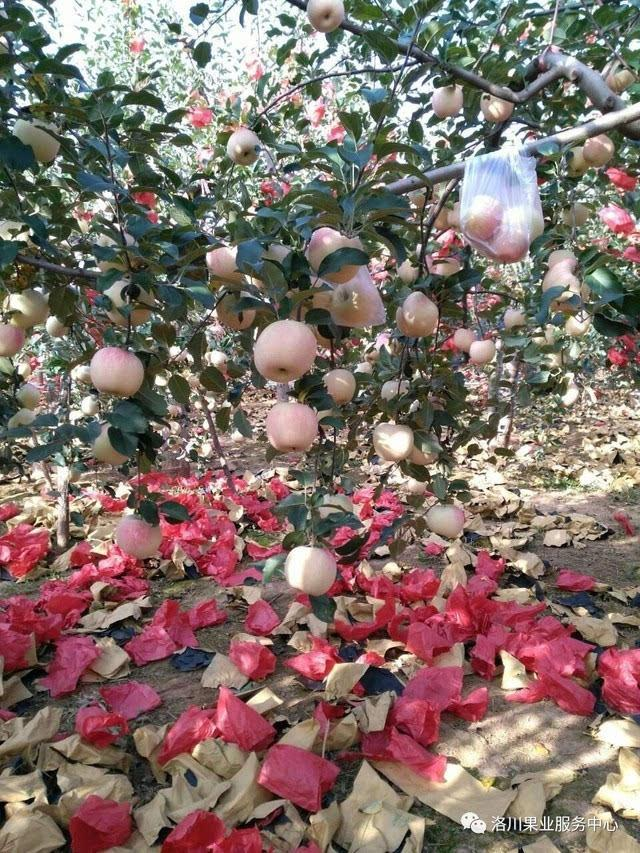apple: (252, 320, 316, 385), (308, 227, 363, 284), (89, 346, 143, 399), (283, 546, 337, 598), (543, 259, 589, 315), (266, 400, 317, 449), (331, 279, 379, 325), (462, 195, 504, 241), (403, 298, 441, 338), (225, 128, 261, 167), (306, 1, 347, 33), (430, 84, 463, 119)
